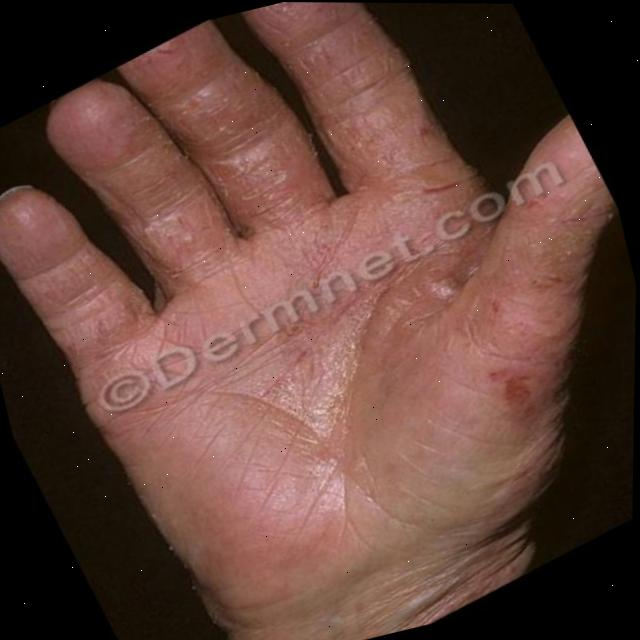Eczema: (26, 33, 583, 542)
